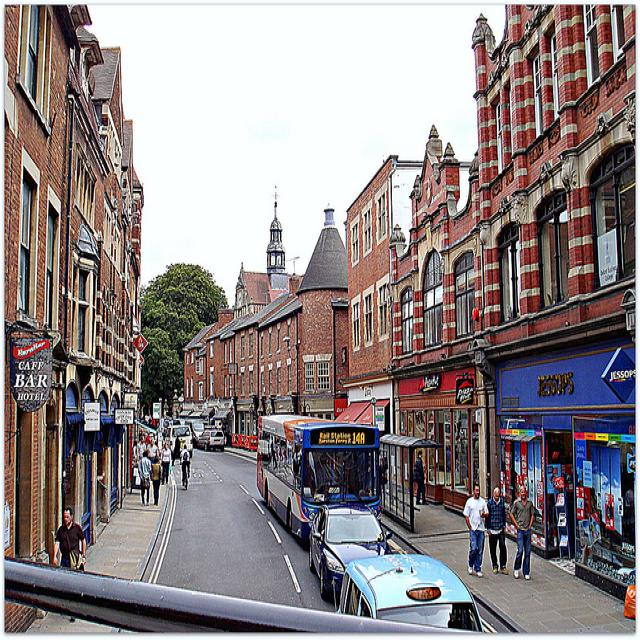Vehicle: (256, 413, 382, 544), (338, 554, 481, 629), (307, 503, 393, 606), (164, 426, 194, 458), (198, 431, 224, 452), (185, 420, 204, 446)
